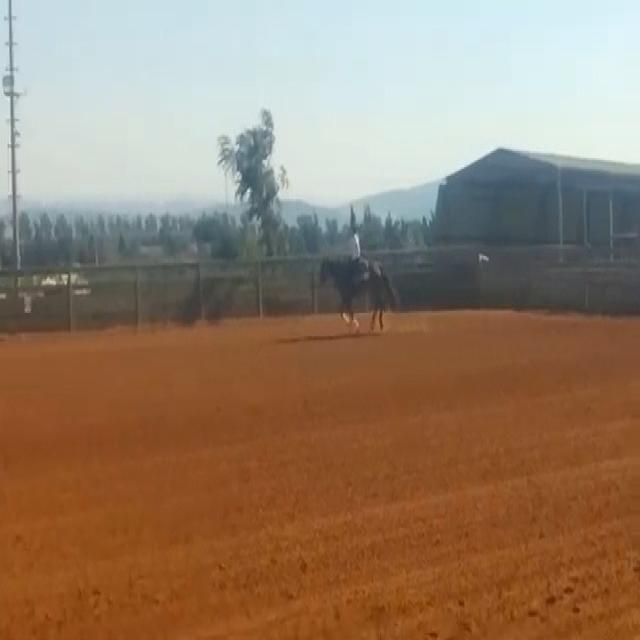horse: (316, 251, 400, 336)
